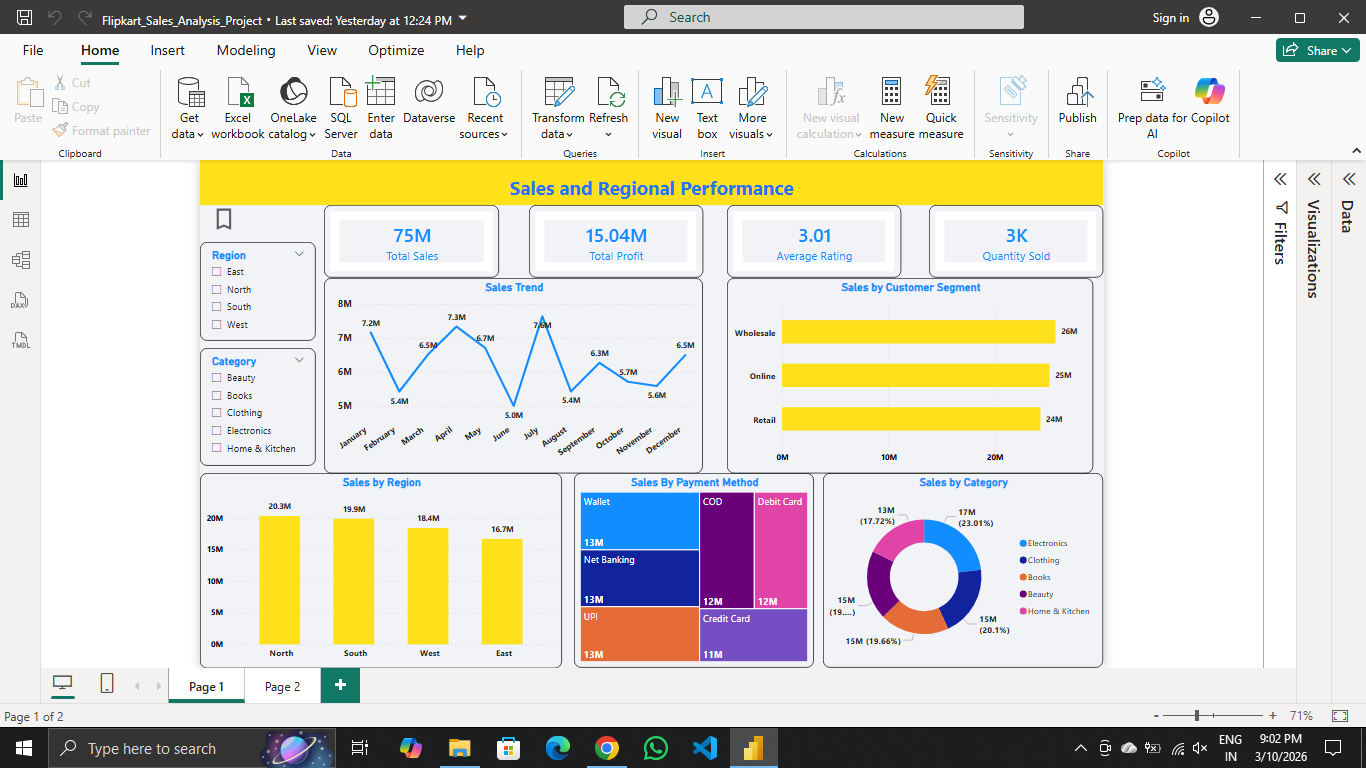

The page's visual inventory and layout, read from the dashboard file:
{"tool":"powerbi","page":{"name":"Page 1","canvas":[1280,720],"ordinal":0},"visuals":[{"type":"cardVisual","fields":{"Data":["Sum(flipkart_sales_enriched.Total Sales (INR))"]},"box":[175.7,63.8,248,103.5],"z":0},{"type":"textbox","box":[0,0,1279.8,63.8],"z":1000},{"type":"cardVisual","fields":{"Data":["Sum(flipkart_sales_enriched.Profit (INR))"]},"box":[466.3,63.8,246.6,103.5],"z":2000},{"type":"cardVisual","fields":{"Data":["Avg(flipkart_sales_enriched.Customer Rating)"]},"box":[746.9,63.8,246.6,103.5],"z":3000},{"type":"cardVisual","fields":{"Data":["Sum(flipkart_sales_enriched.Quantity Sold)"]},"box":[1033.2,63.8,246.6,103.5],"z":4000},{"type":"donutChart","title":"Sales by Category","fields":{"Y":["Sum(flipkart_sales_enriched.Total Sales (INR))"],"Category":["flipkart_sales_enriched.Category"]},"box":[883,443.6,396.9,276.4],"z":5000},{"type":"columnChart","title":"Sales by Region","fields":{"Y":["Sum(flipkart_sales_enriched.Total Sales (INR))"],"Category":["flipkart_sales_enriched.Region"]},"box":[0,443.5,513.5,276.8],"z":6000},{"type":"lineChart","title":"Sales Trend","fields":{"Category":["flipkart_sales_enriched.Order Date.Variation.Date Hierarchy.Year","flipkart_sales_enriched.Order Date.Variation.Date Hierarchy.Month"],"Y":["Sum(flipkart_sales_enriched.Total Sales (INR))"]},"box":[175.6,166.7,537.3,276.8],"z":7000},{"type":"treemap","title":"Sales By Payment Method","fields":{"Values":["Sum(flipkart_sales_enriched.Total Sales (INR))"],"Group":["flipkart_sales_enriched.Payment Method"]},"box":[530.1,443.6,340.2,276.4],"z":8000},{"type":"clusteredBarChart","title":"Sales by Customer Segment","fields":{"Category":["flipkart_sales_enriched.Customer Segment"],"Y":["Sum(flipkart_sales_enriched.Total Sales (INR))"]},"box":[747.2,166.7,519.4,276.8],"z":9000},{"type":"slicer","fields":{"Values":["flipkart_sales_enriched.Category"]},"box":[0,266.5,164.4,167.2],"z":10000},{"type":"slicer","fields":{"Values":["flipkart_sales_enriched.Region"]},"box":[0,116.2,164.4,140.3],"z":11000},{"type":"actionButton","box":[14.2,63.8,100.6,39.7],"z":12000}]}

Visuals, with their boxes on the page's 1280x720 design canvas (x1, y1, x2, y2). These are canvas units, not pixel positions in the 1366x768 screenshot, which may show the page scaled, cropped or inside an application window:
cardVisual - Sum(flipkart_sales_enriched.Total Sales (INR)): locate(176, 64, 424, 167)
textbox: locate(0, 0, 1280, 64)
cardVisual - Sum(flipkart_sales_enriched.Profit (INR)): locate(466, 64, 713, 167)
cardVisual - Avg(flipkart_sales_enriched.Customer Rating): locate(747, 64, 994, 167)
cardVisual - Sum(flipkart_sales_enriched.Quantity Sold): locate(1033, 64, 1280, 167)
"Sales by Category" donutChart: locate(883, 444, 1280, 720)
"Sales by Region" columnChart: locate(0, 444, 514, 720)
"Sales Trend" lineChart: locate(176, 167, 713, 444)
"Sales By Payment Method" treemap: locate(530, 444, 870, 720)
"Sales by Customer Segment" clusteredBarChart: locate(747, 167, 1267, 444)
slicer - flipkart_sales_enriched.Category: locate(0, 266, 164, 434)
slicer - flipkart_sales_enriched.Region: locate(0, 116, 164, 256)
actionButton: locate(14, 64, 115, 104)
